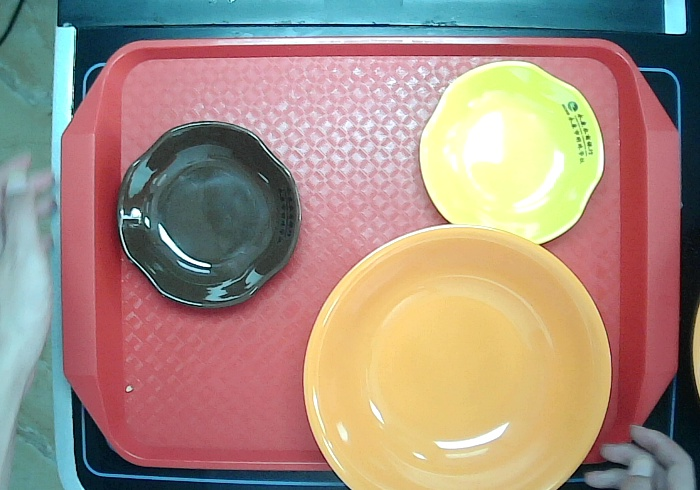YKMZ-Huang_Se_Ao_Bian_Wan: (413, 59, 606, 245)
YKMZ-Ju_Se_Tang_Wan: (299, 221, 611, 490)
YKMZ-Ka_Fei_Ao_Bian_Wan: (113, 118, 304, 313)
